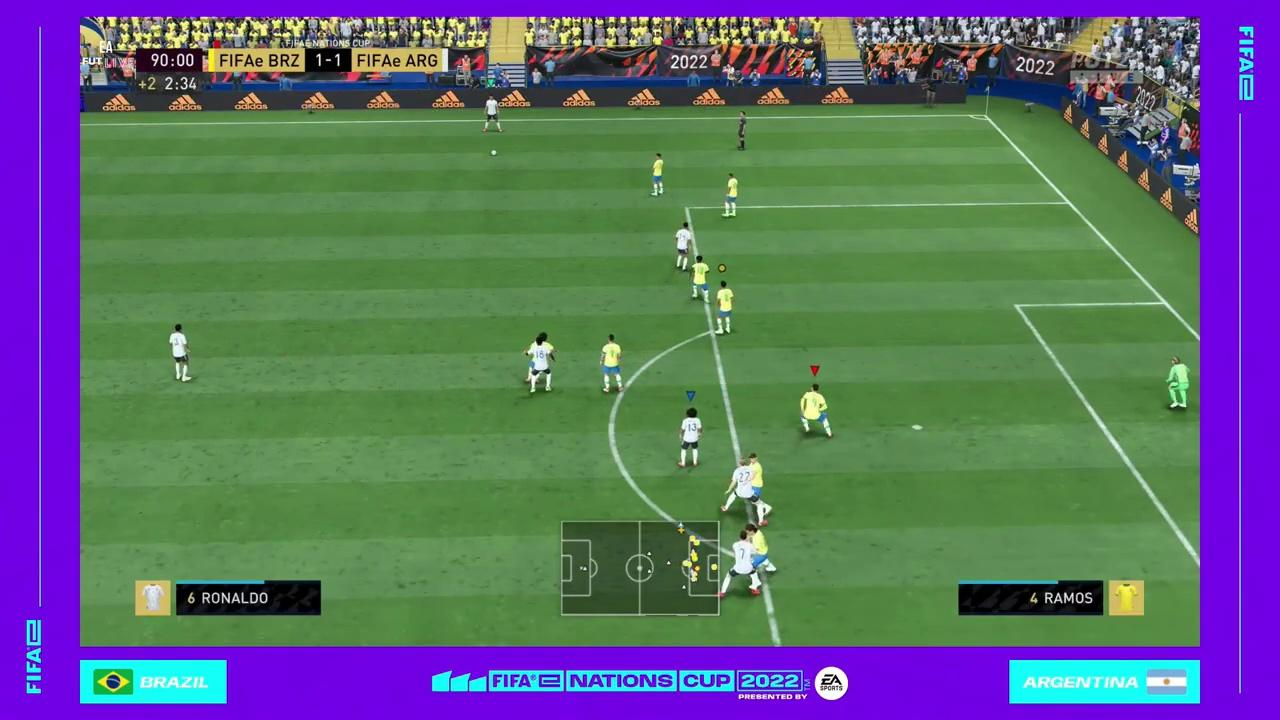scoreboard: (209, 46, 448, 75)
timestamp: (131, 44, 206, 101)
